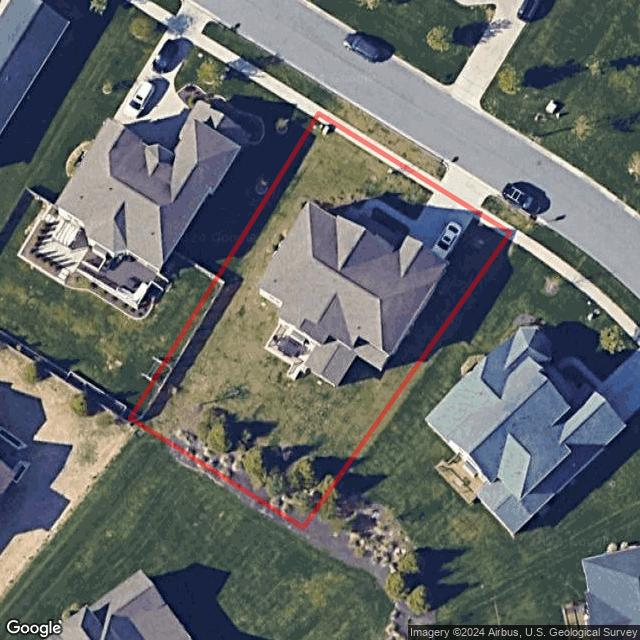Driveway: (407, 187, 477, 259)
Extra-Driveway: (437, 163, 496, 212)
Extra-Lawn: (324, 92, 449, 181), (480, 192, 527, 230)
Extra-Sidewalk: (318, 108, 440, 187), (477, 206, 515, 234)
House: (257, 201, 448, 387)
Lawn: (130, 113, 511, 528)
Other: (168, 415, 334, 527), (263, 320, 318, 382), (363, 208, 409, 255)
Sidewalk: (316, 112, 438, 192), (352, 199, 414, 228), (475, 213, 511, 238)
